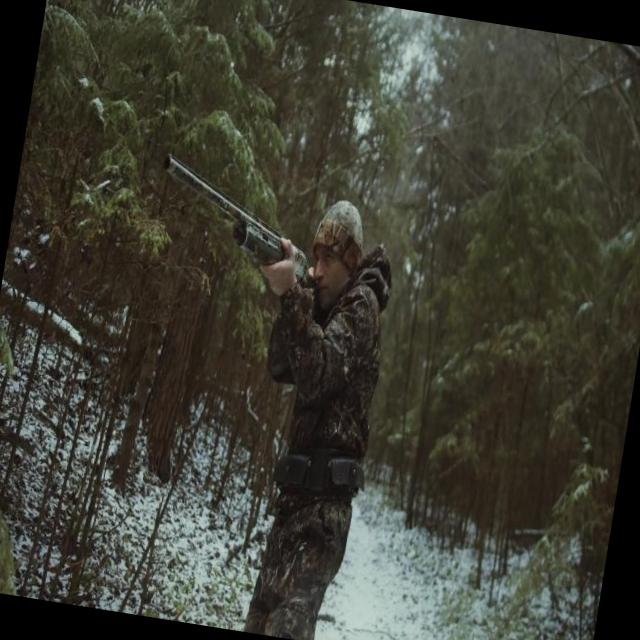ranger: (209, 161, 428, 640)
weapon: (137, 128, 352, 286)
